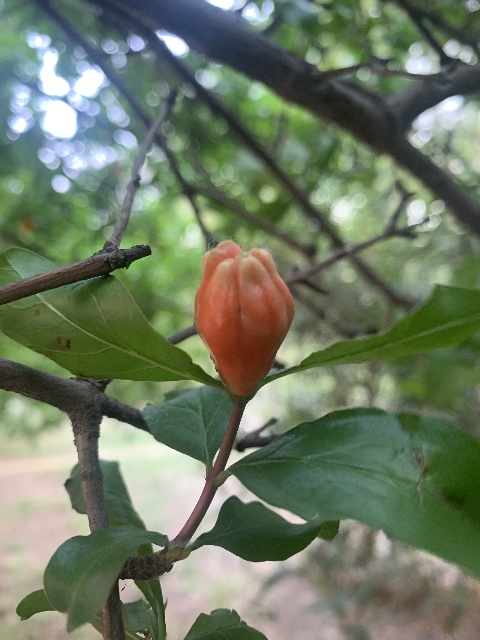flower: (193, 240, 294, 396)
